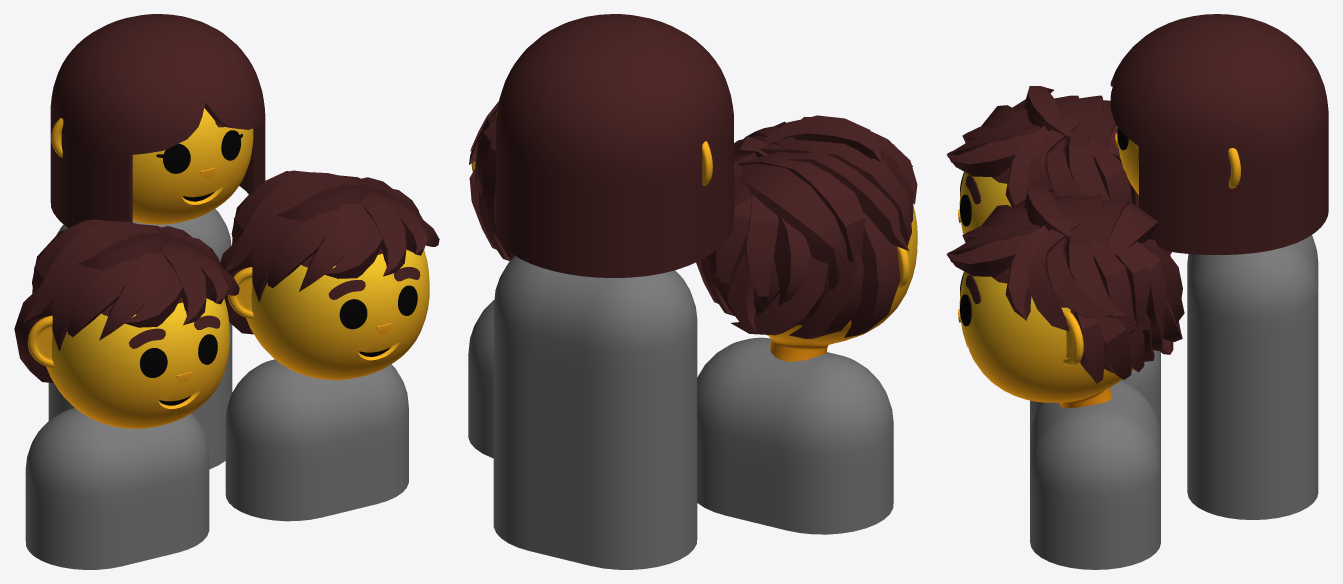
File: family_woman_boy_boy.fbx
3 renders of one model, left to right at view 1: azimuth 30°, elevation 25°; view 2: azimuth 150°, elevation 25°; view 3: azimuth 270°, elevation 25°, orthographic. The views are drawn at different scales.
Visible parts, largest first — view 1: Roundcube.416, Sphere.344, Sphere.341, Cube.5847, Cube.026, Roundcube.411, Roundcube.415, Roundcube.412, Sphere.343, Circle.1722, Circle.1729, Circle.1732 (+4 smaller); view 2: Sphere.343, Roundcube.416, Cube.5847, Sphere.344, Sphere.341, Cube.026, Roundcube.415; view 3: Roundcube.416, Sphere.343, Cube.026, Sphere.341, Cube.5847, Roundcube.411, Roundcube.415, Sphere.344, Cylinder.336, Roundcube.412.
Part boxes in pixels (x1,y1,x2,y2): Roundcube.416: (50,14,265,227); Sphere.344: (25,408,209,569); Sphere.341: (225,359,408,521); Cube.5847: (14,219,239,383); Cube.026: (220,170,439,334); Roundcube.411: (246,249,429,379); Roundcube.415: (46,297,229,428); Roundcube.412: (132,108,253,224); Sphere.343: (48,209,232,469); Circle.1722: (339,285,417,329); Circle.1729: (140,334,217,377); Circle.1732: (163,130,240,173); Sphere.343: (493,256,697,569); Roundcube.416: (496,14,733,277); Cube.5847: (696,115,917,338); Sphere.344: (697,337,893,534); Sphere.341: (468,300,494,458); Cube.026: (469,101,514,260); Roundcube.415: (767,206,917,361); Roundcube.416: (1110,14,1328,254); Sphere.343: (1187,235,1318,519); Cube.026: (946,185,1184,383); Sphere.341: (1030,380,1160,569); Cube.5847: (946,86,1171,254); Roundcube.411: (959,251,1133,408); Roundcube.415: (959,152,1066,234); Sphere.344: (1030,350,1160,438); Cylinder.336: (1063,311,1083,366); Roundcube.412: (1117,126,1138,195).
Bounding box in the file's own units: 236 × 252 × 193.
1 material, 1 textured.
